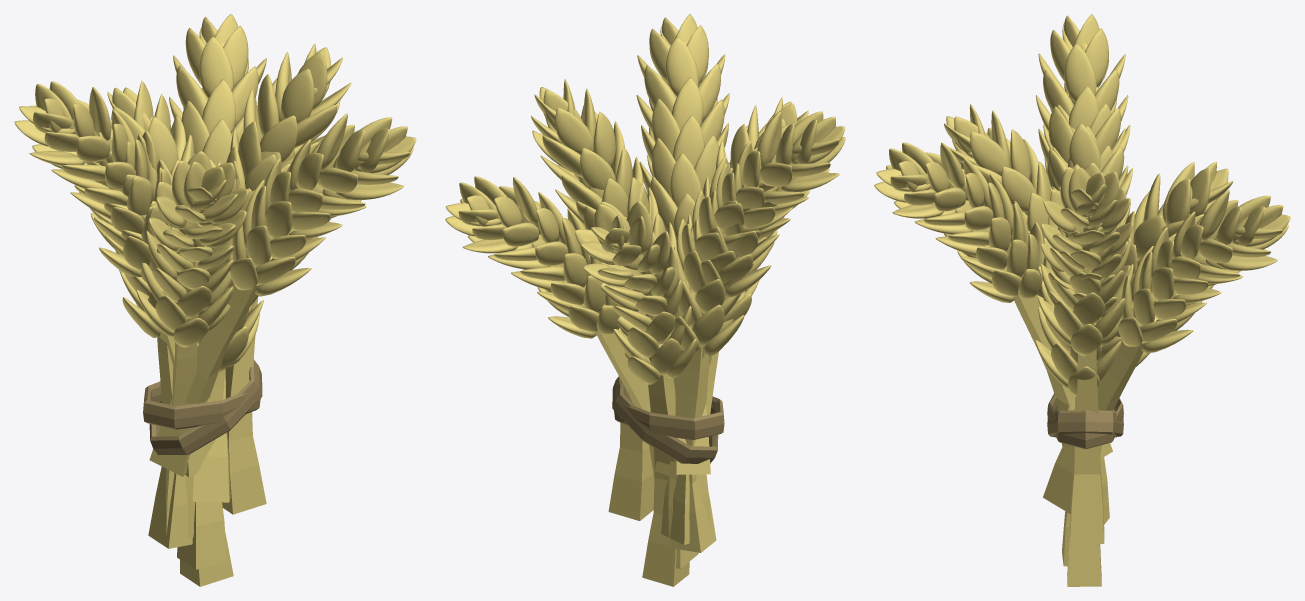
The model's file is bugday_demet.fbx.
3 renders of one model, left to right at view 1: azimuth 30°, elevation 25°; view 2: azimuth 150°, elevation 25°; view 3: azimuth 270°, elevation 25°, orthographic. The views are drawn at different scales.
Parts seen in each view (by area): view 1: Cube.007, Cube.003, Cube.006, Cube.004, Cube.005, Cube.002, Cube.001, Cube, Cube.008, Cube.009; view 2: Cube.005, Cube.007, Cube.001, Cube.006, Cube.004, Cube.002, Cube.003, Cube, Cube.009, Cube.008; view 3: Cube.005, Cube.004, Cube.007, Cube.006, Cube.003, Cube, Cube.001, Cube.002, Cube.009, Cube.008.
Part boxes in pixels (x1=…): Cube.007: x1=149, y1=113, x2=416, y2=476; Cube.003: x1=136, y1=151, x2=248, y2=537; Cube.006: x1=14, y1=81, x2=215, y2=477; Cube.004: x1=222, y1=43, x2=351, y2=514; Cube.005: x1=169, y1=14, x2=266, y2=502; Cube.002: x1=74, y1=121, x2=194, y2=548; Cube.001: x1=107, y1=81, x2=226, y2=569; Cube: x1=180, y1=143, x2=304, y2=586; Cube.008: x1=143, y1=381, x2=260, y2=429; Cube.009: x1=149, y1=359, x2=262, y2=455; Cube.005: x1=445, y1=176, x2=654, y2=478; Cube.007: x1=636, y1=14, x2=729, y2=474; Cube.001: x1=575, y1=201, x2=698, y2=568; Cube.006: x1=655, y1=111, x2=845, y2=476; Cube.004: x1=531, y1=79, x2=654, y2=520; Cube.002: x1=668, y1=154, x2=792, y2=552; Cube.003: x1=661, y1=97, x2=808, y2=544; Cube: x1=567, y1=174, x2=689, y2=586; Cube.009: x1=612, y1=376, x2=718, y2=463; Cube.008: x1=614, y1=396, x2=724, y2=439; Cube.005: x1=1043, y1=189, x2=1290, y2=514; Cube.004: x1=1038, y1=163, x2=1133, y2=544; Cube.007: x1=874, y1=142, x2=1112, y2=458; Cube.006: x1=1036, y1=14, x2=1130, y2=410; Cube.003: x1=944, y1=104, x2=1109, y2=524; Cube: x1=1035, y1=218, x2=1130, y2=586; Cube.001: x1=1062, y1=161, x2=1233, y2=566; Cube.002: x1=1043, y1=87, x2=1132, y2=226; Cube.009: x1=1047, y1=410, x2=1123, y2=437; Cube.008: x1=1047, y1=393, x2=1123, y2=449.
Bounding box in the file's own units: 304 × 474 × 364.
